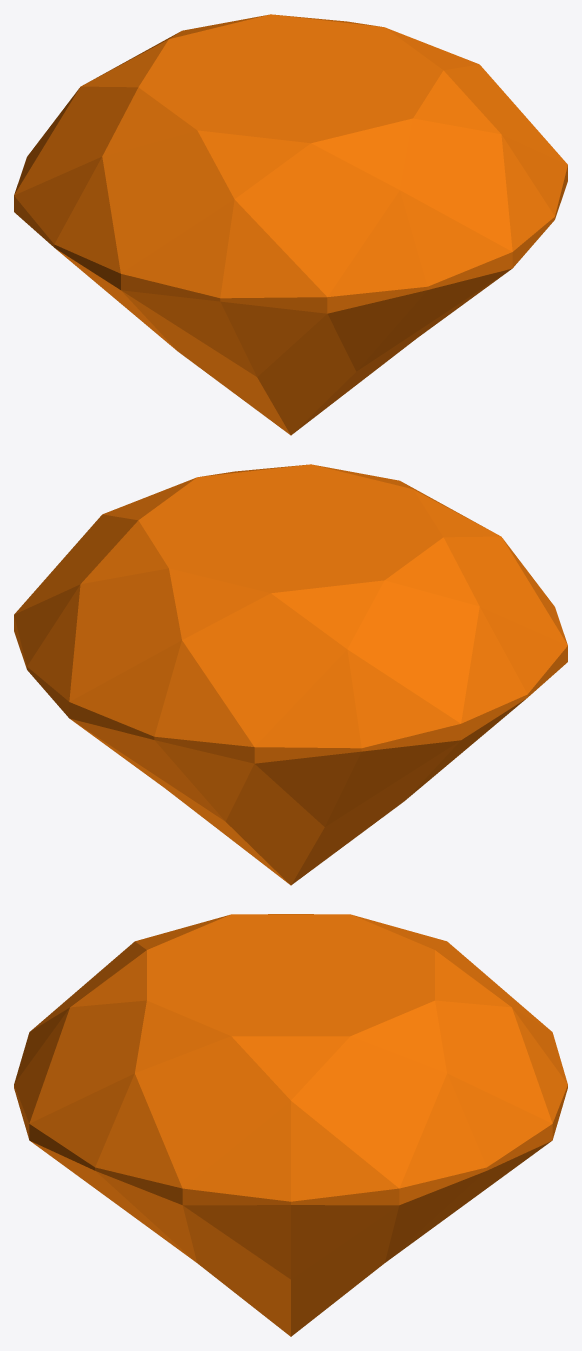
Rendered from orangeGem.fbx.
3 views of the same model, one above another, from view 1: azimuth 30°, elevation 25°; view 2: azimuth 150°, elevation 25°; view 3: azimuth 270°, elevation 25° (orthographic).
Visible parts, largest first — view 1: Cylinder002; view 2: Cylinder002; view 3: Cylinder002.
Boxes of the visible parts, x1,y1,x2,y2 form: Cylinder002: (14, 14, 567, 435); Cylinder002: (14, 464, 567, 885); Cylinder002: (14, 914, 567, 1336).
Size of the model in its own units: 78.74 by 56.72 by 78.74.
